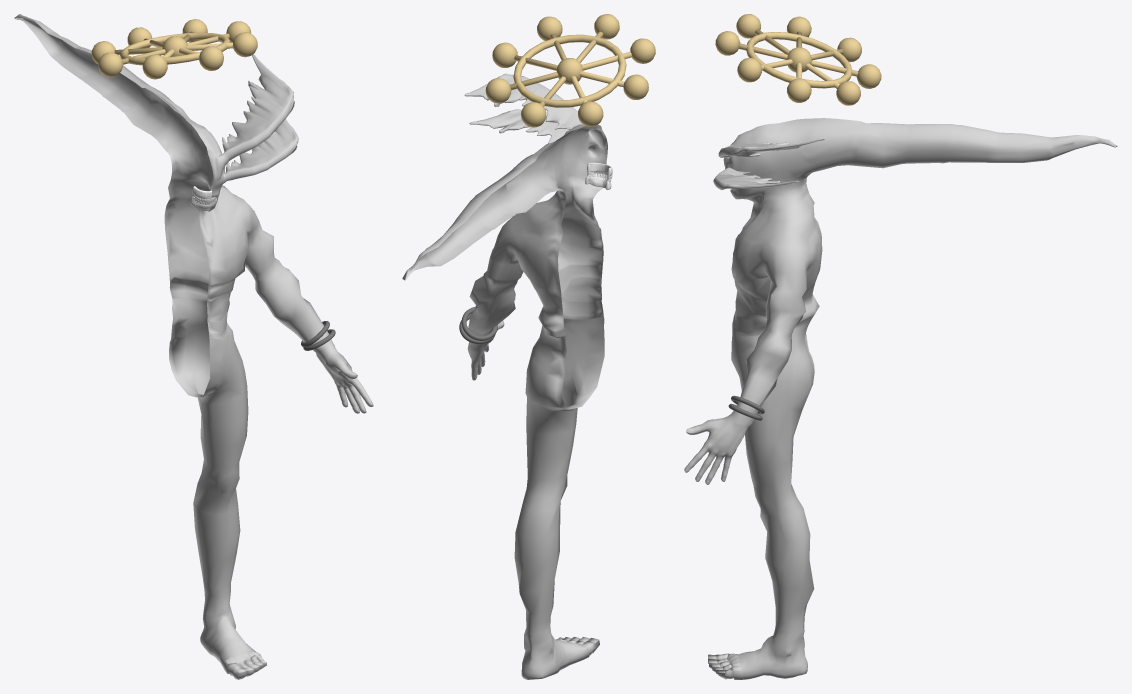
The picture shows the model from 3 angles, left to right: view 1: azimuth 30°, elevation 25°; view 2: azimuth 150°, elevation 25°; view 3: azimuth 270°, elevation 25°; orthographic projection. The views are drawn at different scales.
Visible parts, largest first — view 1: Mahoraga_Low.001, Torus.004; view 2: Mahoraga_Low.001, Torus.004; view 3: Mahoraga_Low.001, Torus.004.
Part boxes in pixels (<box>): Mahoraga_Low.001: <box>14,14,373,679</box>; Torus.004: <box>91,19,257,79</box>; Mahoraga_Low.001: <box>402,73,607,679</box>; Torus.004: <box>485,14,655,127</box>; Mahoraga_Low.001: <box>684,118,1117,679</box>; Torus.004: <box>715,14,881,105</box>.
Size of the model in its own units: 13.44 by 37.71 by 23.65.
